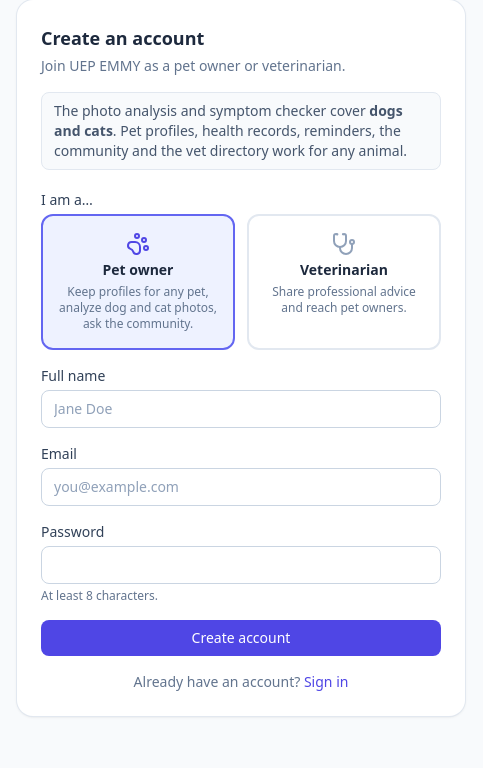
it: signing up no longer signs you in › keeps the form up and shows the error when signup is refused
Type "Alex" into the field labelled "Full name".
click(241, 409); type("Alex")  # box [41,390,441,428]
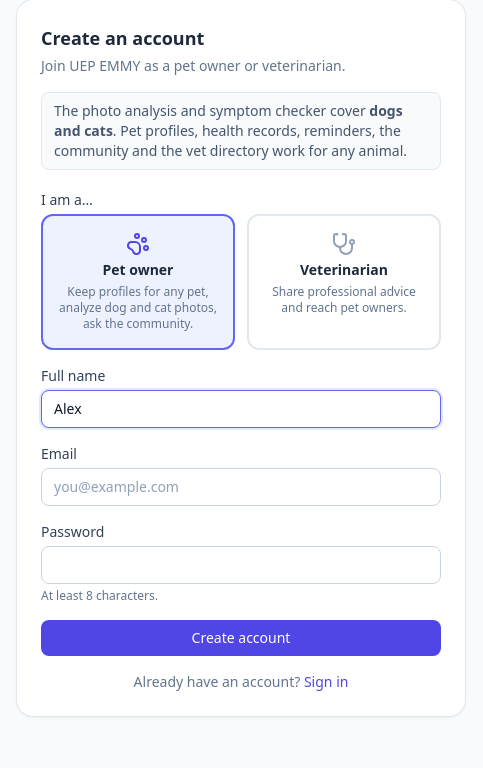
Type "alex@example.com" into the field labelled "Email".
click(241, 487); type("alex@example.com")  # box [41,468,441,506]
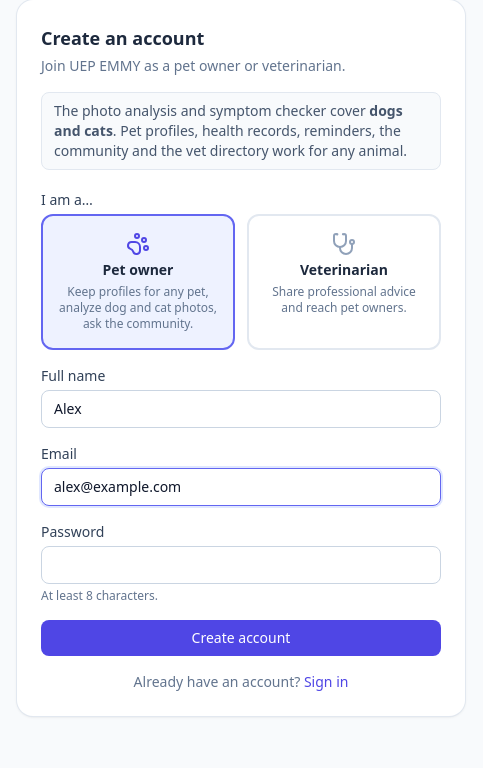
Type "hunter2hunter2" into the password field labelled "Password".
click(241, 565); type("hunter2hunter2")  # box [41,546,441,584]
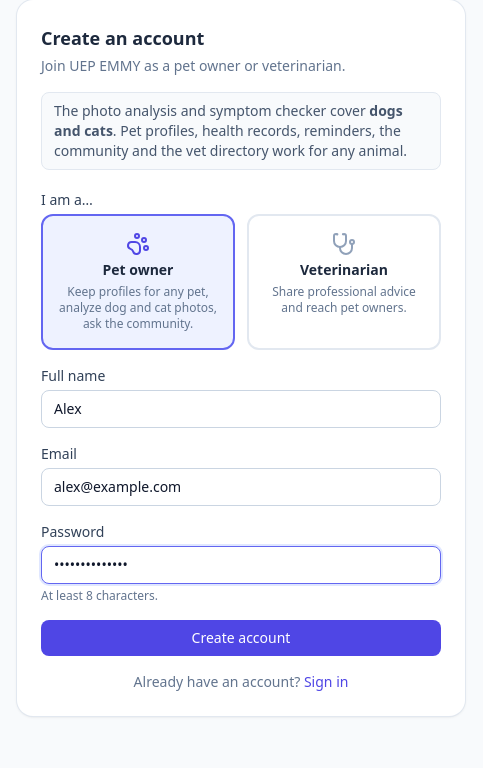
Click the button "Create account".
click(241, 638)  # box [41,620,441,656]
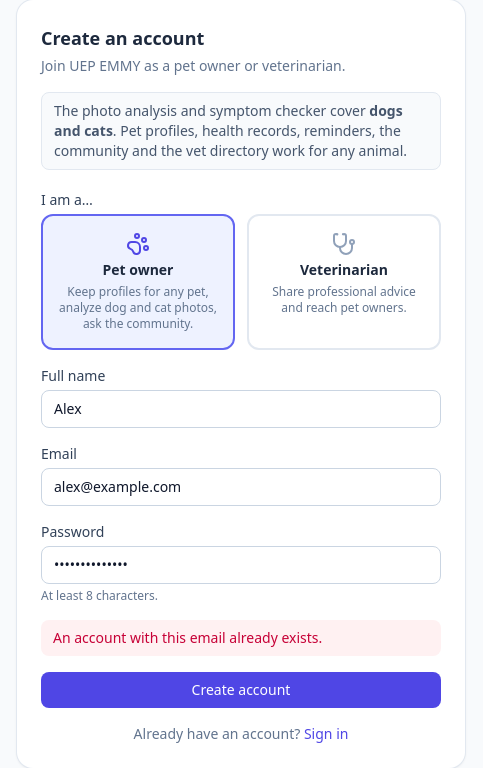
Check: the button "Create account" is shown, box [41,672,441,708]
Check: the message shows "already exists", box [53,628,322,647]
